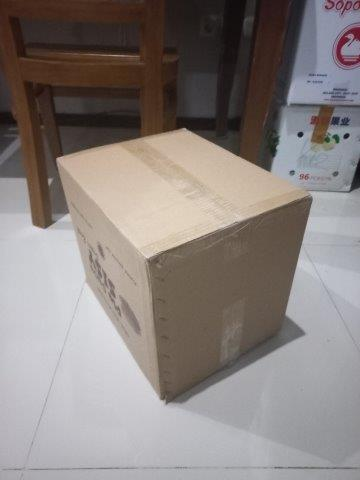kardus: (57, 127, 313, 402)
